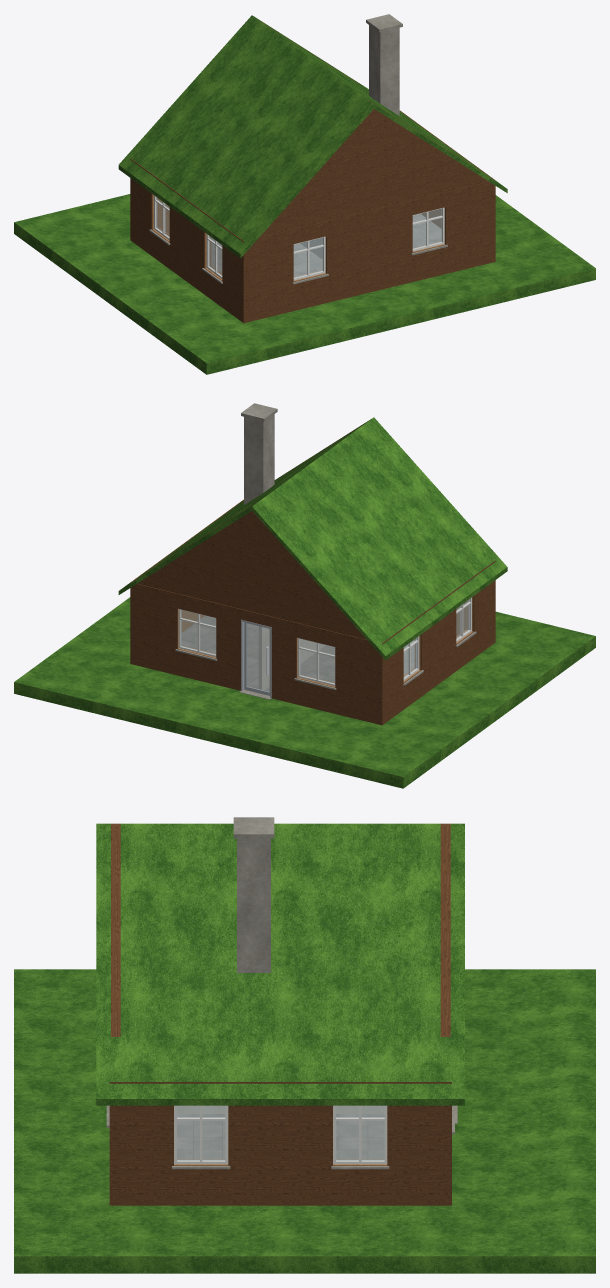
The model's file is b_iceland_turf_house.gltf.
3 renders of one model, top to bottom at view 1: azimuth 30°, elevation 25°; view 2: azimuth 150°, elevation 25°; view 3: azimuth 270°, elevation 25°, orthographic. The views are drawn at different scales.
Visible parts, largest first — view 1: S_iceland_turf_house; view 2: S_iceland_turf_house, D_iceland_turf_house_F1_S2_Door0; view 3: S_iceland_turf_house.
Part boxes in pixels (x1,y1,x2,y2): S_iceland_turf_house: (14, 14, 595, 374); S_iceland_turf_house: (14, 403, 595, 788); D_iceland_turf_house_F1_S2_Door0: (244, 622, 269, 695); S_iceland_turf_house: (14, 817, 595, 1273).
Bounding box in the file's own units: 14 × 7.98 × 12.
14 materials, 8 textured.
